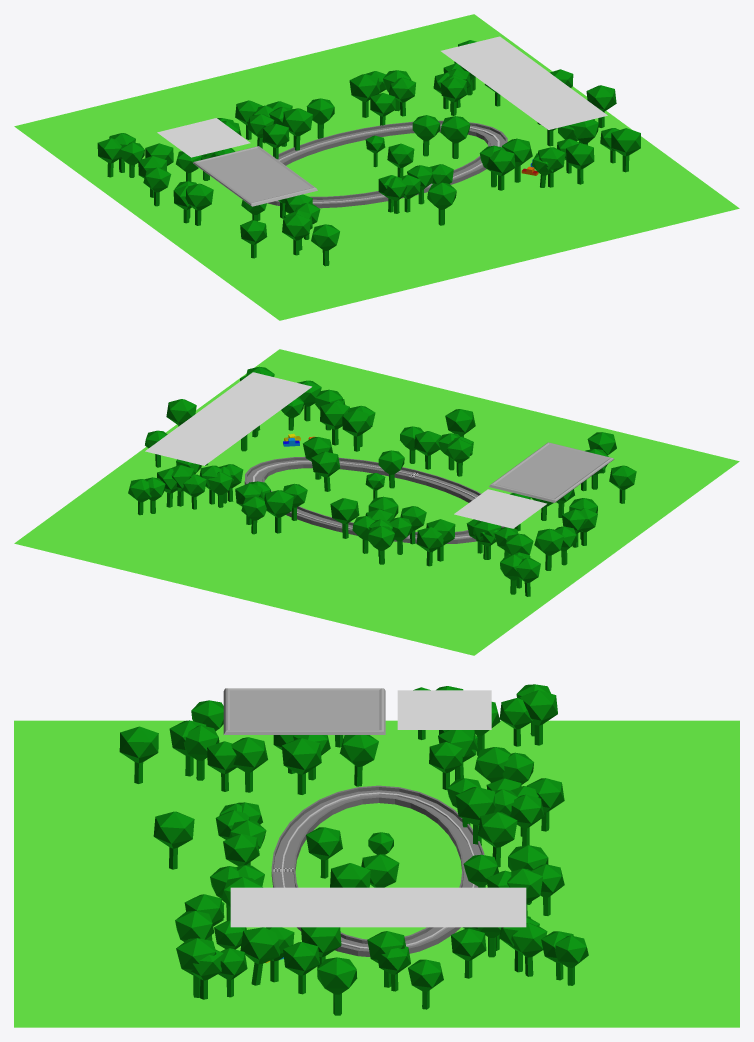
The model's file is track.glb.
The picture shows the model from 3 angles, top to bottom: view 1: azimuth 30°, elevation 25°; view 2: azimuth 150°, elevation 25°; view 3: azimuth 270°, elevation 25°; orthographic projection. The views are drawn at different scales.
Visible parts, largest first — view 1: gnd, chat.guests, scoreboard, track.curb, chat.lead, track.floor, tree.002 - copy.013, tree.002 - copy.039, tree.002 - copy.056, tree.002 - copy.061, tree.002 - copy.038, tree.002 - copy.066 (+18 smaller); view 2: gnd, chat.guests, scoreboard, track.curb, chat.lead, track.floor, tree.002 - copy.039, tree.002 - copy.008, tree.002 - copy.065, tree.002 - copy.063, tree.002 - copy.017, tree.002 - copy.068 (+14 smaller); view 3: gnd, chat.guests, scoreboard, chat.lead, track.curb, track.floor, tree.002 - copy.038, tree.002 - copy.025, tree.002 - copy.011, tree.002 - copy.045, tree.002 - copy.014, tree.002 - copy.056 (+42 smaller).
Part boxes in pixels (left/top/right/bottom): gnd: left=14, top=14, right=739, bottom=320; chat.guests: left=441, top=36, right=607, bottom=129; scoreboard: left=193, top=146, right=317, bottom=206; track.curb: left=267, top=120, right=507, bottom=208; chat.lead: left=157, top=118, right=250, bottom=157; track.floor: left=277, top=123, right=505, bottom=203; tree.002 - copy.013: left=611, top=128, right=640, bottom=172; tree.002 - copy.039: left=349, top=74, right=380, bottom=117; tree.002 - copy.056: left=282, top=108, right=312, bottom=150; tree.002 - copy.061: left=440, top=116, right=470, bottom=158; tree.002 - copy.038: left=427, top=182, right=456, bottom=225; tree.002 - copy.066: left=566, top=143, right=594, bottom=184; gnd: left=14, top=349, right=739, bottom=655; chat.guests: left=145, top=372, right=311, bottom=465; scoreboard: left=489, top=442, right=613, bottom=502; track.curb: left=244, top=456, right=504, bottom=543; chat.lead: left=454, top=489, right=546, bottom=528; track.floor: left=247, top=460, right=478, bottom=539; tree.002 - copy.039: left=264, top=490, right=293, bottom=533; tree.002 - copy.008: left=320, top=401, right=349, bottom=445; tree.002 - copy.065: left=342, top=410, right=370, bottom=451; tree.002 - copy.063: left=534, top=528, right=564, bottom=570; tree.002 - copy.017: left=330, top=498, right=359, bottom=538; tree.002 - copy.068: left=311, top=451, right=340, bottom=491; gnd: left=14, top=720, right=739, bottom=1027; chat.guests: left=230, top=887, right=526, bottom=927; scoreboard: left=223, top=688, right=385, bottom=734; chat.lead: left=397, top=690, right=491, bottom=729; track.curb: left=271, top=785, right=484, bottom=956; track.floor: left=273, top=790, right=481, bottom=950; tree.002 - copy.038: left=153, top=811, right=194, bottom=869; tree.002 - copy.025: left=240, top=927, right=280, bottom=985; tree.002 - copy.011: left=119, top=726, right=158, bottom=783; tree.002 - copy.045: left=317, top=957, right=357, bottom=1015; tree.002 - copy.014: left=281, top=738, right=321, bottom=794; tree.002 - copy.056: left=455, top=787, right=495, bottom=845.
Size of the model in its own units: 171 by 20.13 by 171.
